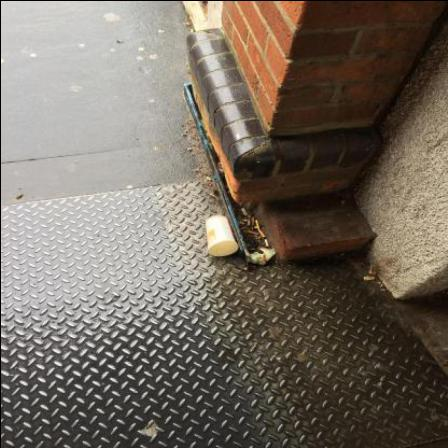Cigarette: (259, 231, 267, 239), (241, 208, 248, 216), (249, 231, 260, 236), (264, 239, 269, 247), (237, 219, 247, 223), (238, 221, 245, 225), (259, 249, 266, 253), (252, 218, 255, 226), (241, 228, 247, 232), (263, 248, 269, 252), (249, 216, 251, 226), (238, 221, 242, 225), (370, 271, 373, 275), (250, 249, 255, 251), (191, 28, 193, 33)
Cup: (205, 216, 238, 257)
Unlabeled litter: (250, 247, 276, 266)
